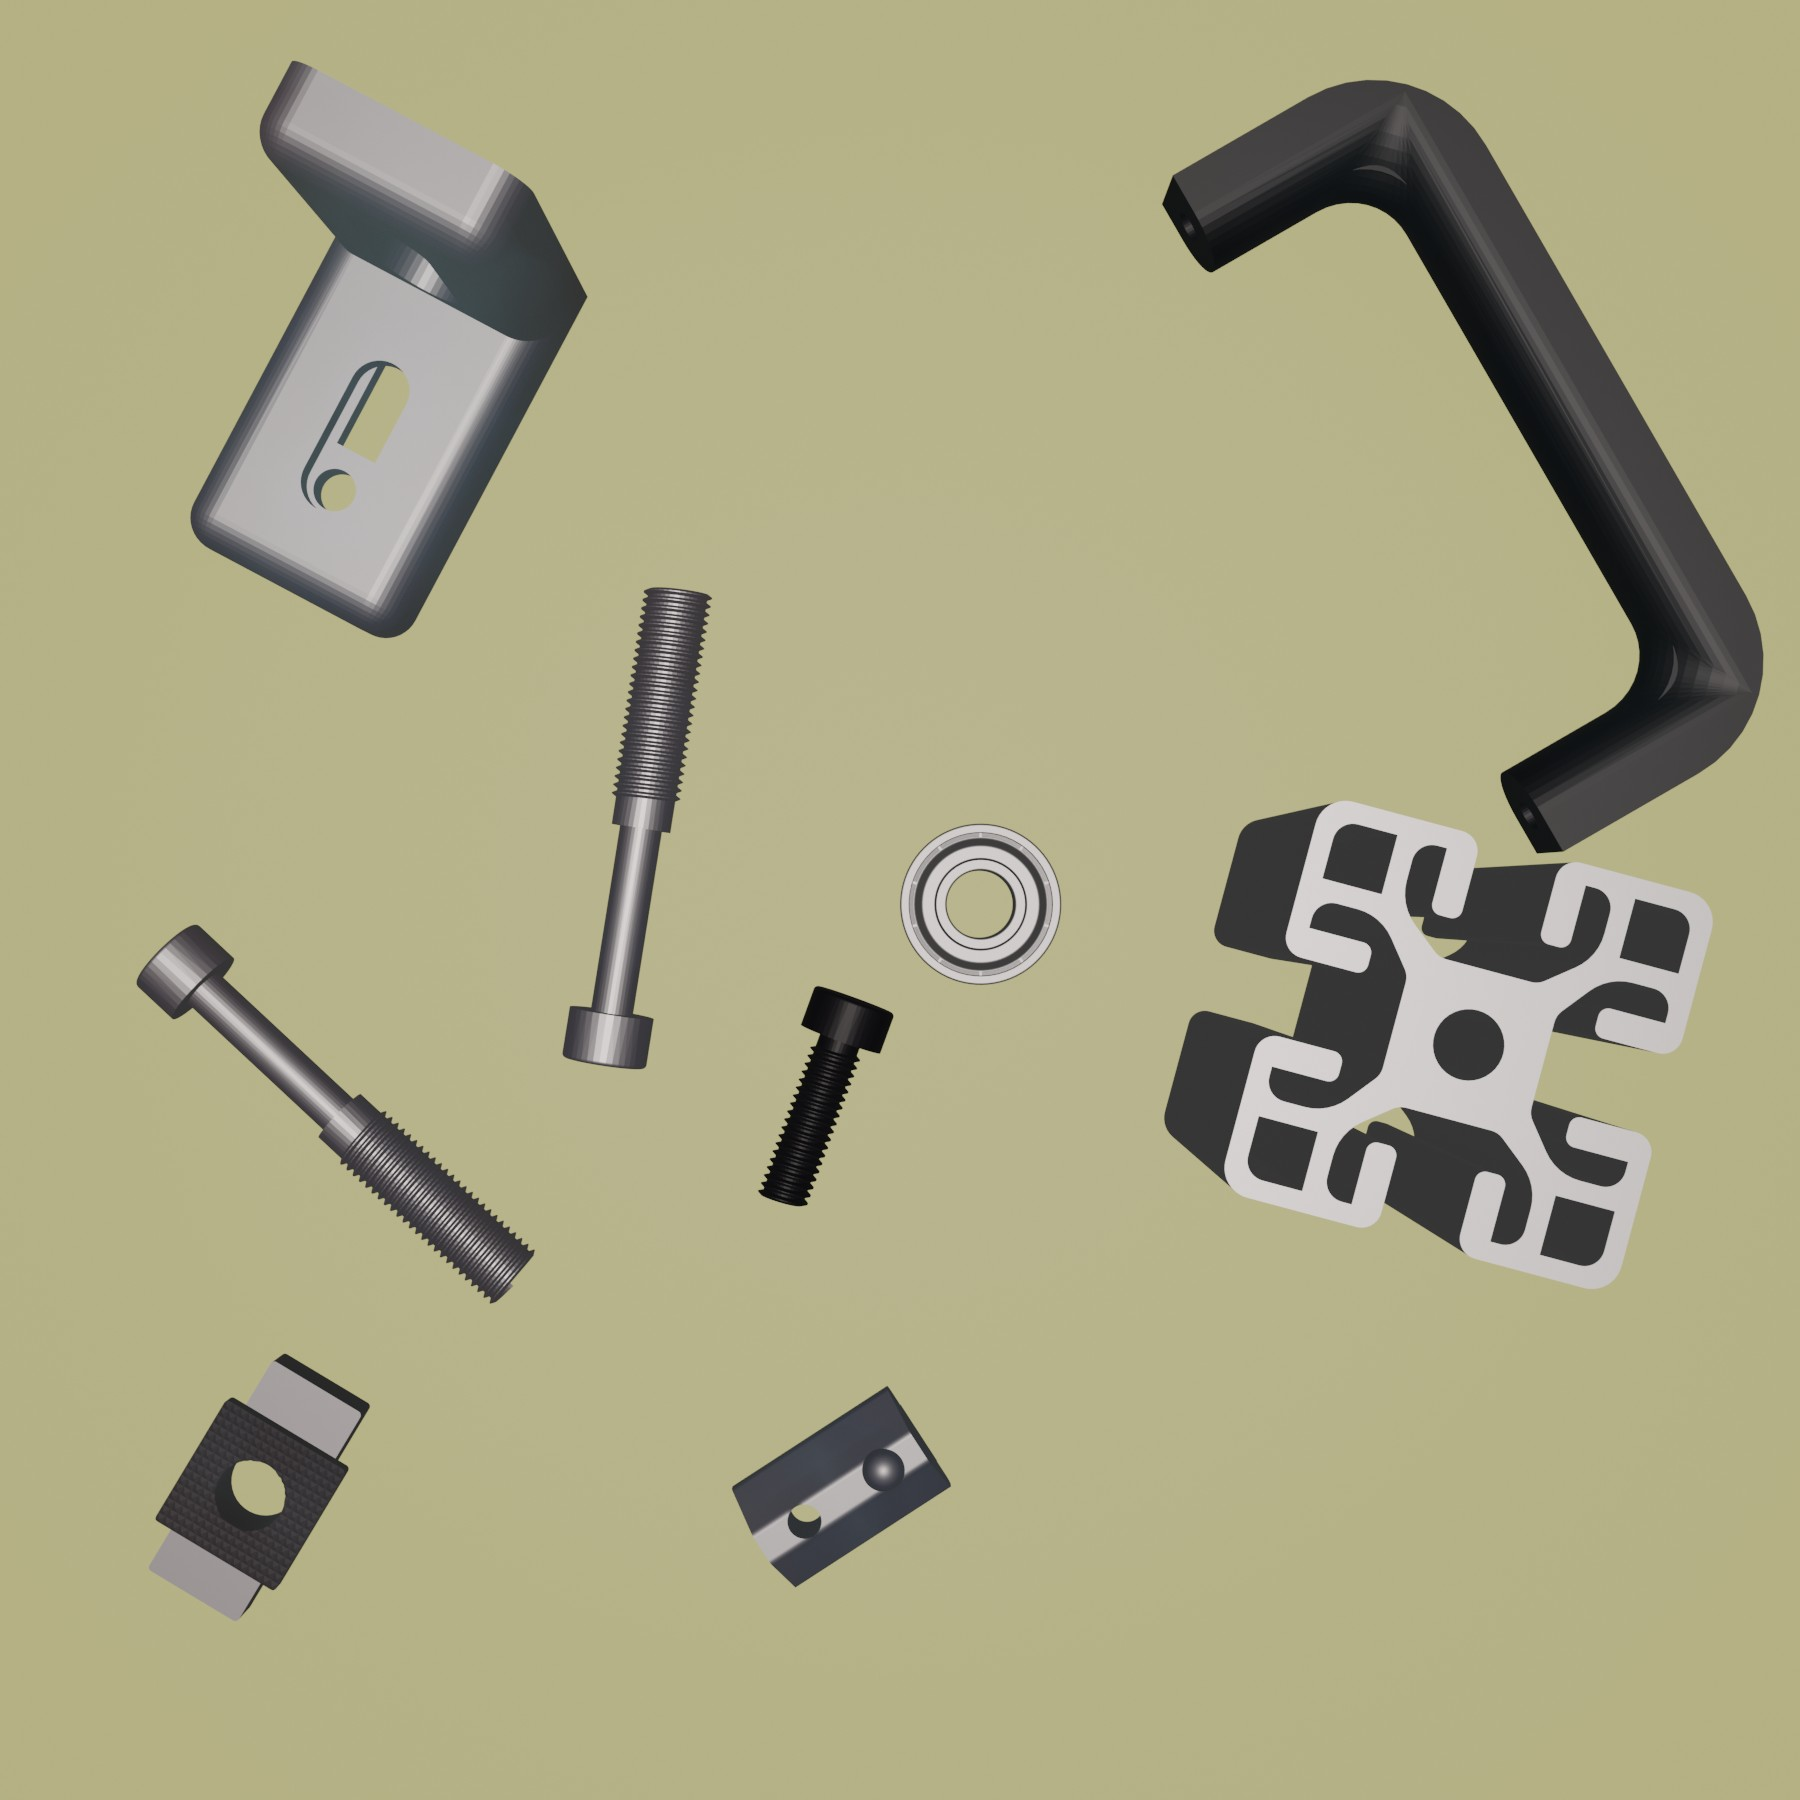Aluminium Extension: (1160, 798, 1718, 1296)
Ball Bearing: (897, 819, 1063, 987)
Multiwinkel: (190, 58, 590, 641)
Pull Handle: (1162, 77, 1764, 855)
Shoulder Socket Head Cap Screw: (135, 920, 537, 1302), (560, 584, 715, 1073)
Socket Head Cap Screw: (757, 981, 897, 1208)
T Nut Square: (143, 1348, 374, 1625)
T Spring Nut: (729, 1380, 956, 1589)
